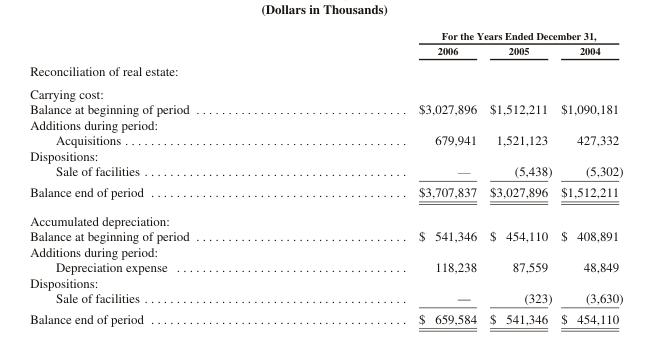table: (29, 28, 622, 325)
table column: (29, 28, 303, 325), (303, 28, 482, 325), (482, 28, 555, 325), (555, 28, 622, 325)
table column header: (29, 28, 622, 59)
table projected row header: (29, 59, 622, 81), (29, 205, 622, 227), (29, 81, 622, 101), (29, 116, 622, 132), (29, 147, 622, 163), (29, 243, 622, 258), (29, 274, 622, 289)
table row: (29, 181, 622, 205), (29, 59, 622, 81), (29, 205, 622, 227), (29, 81, 622, 101), (29, 289, 622, 308), (29, 163, 622, 181), (29, 42, 622, 59), (29, 308, 622, 325), (29, 116, 622, 132), (29, 147, 622, 163), (29, 227, 622, 243), (29, 258, 622, 274), (29, 101, 622, 116), (29, 132, 622, 147), (29, 243, 622, 258), (29, 274, 622, 289), (29, 28, 622, 42)
table spanning cell: (303, 28, 622, 42)
